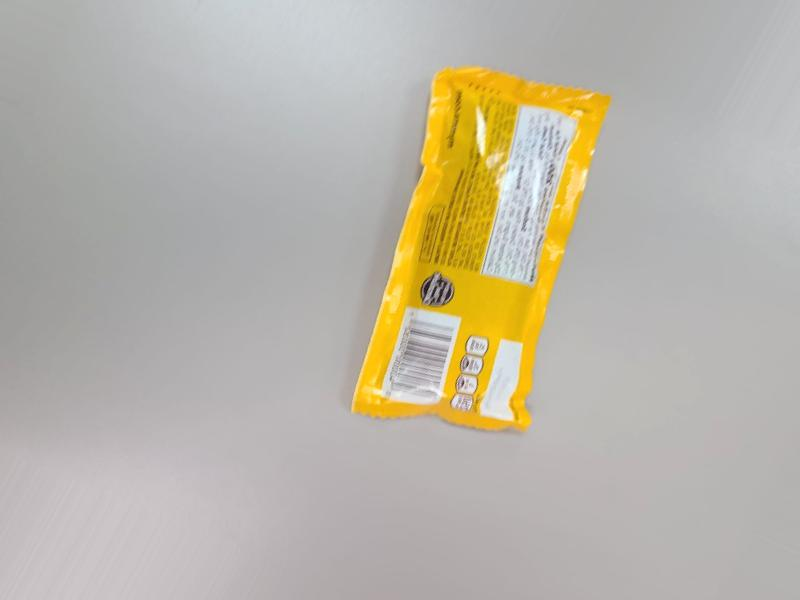m&m: (345, 51, 601, 441)
